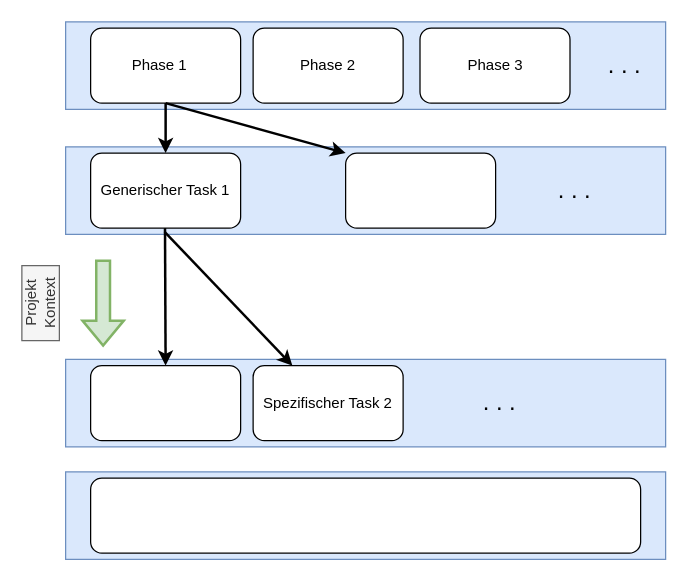
This 688x581 diagram has some shape labels left out. Each missing label, with the centre of its shape:
Generischer Task 2: the point at 420,190
Prozessinstanzen: the point at 365,515
Spezifischer Task 1: the point at 165,402
